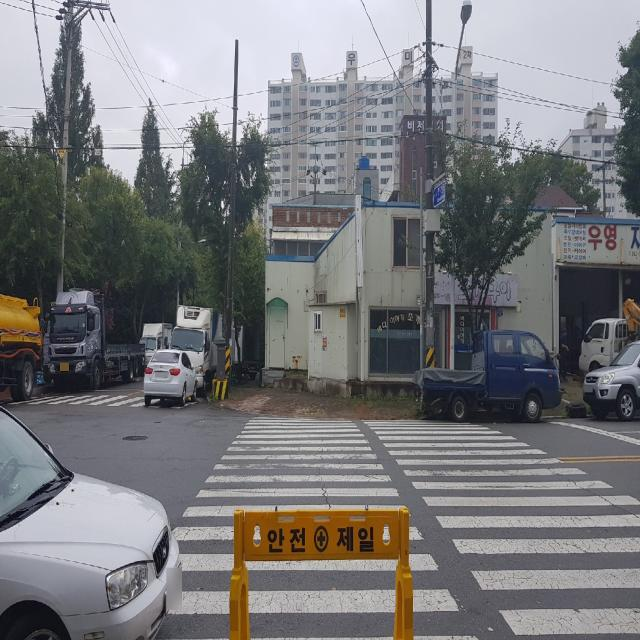횡단보도: (167, 417, 640, 640), (30, 389, 157, 410)
